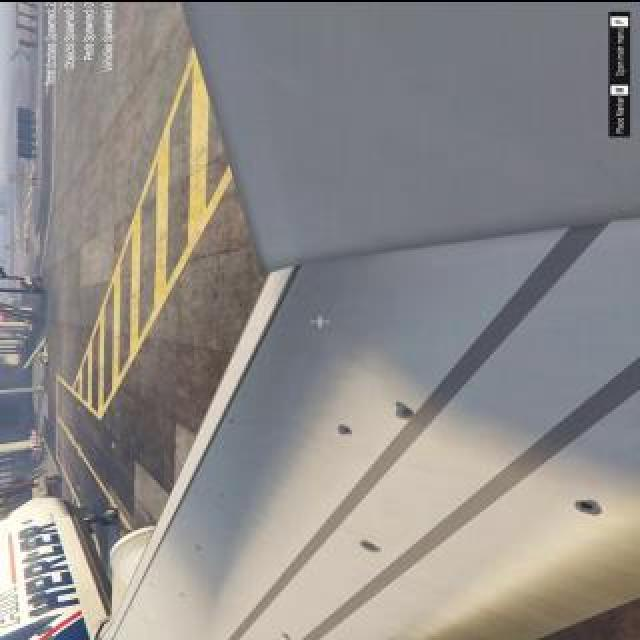crack: (572, 495, 602, 517), (359, 538, 383, 552), (396, 403, 416, 419), (337, 422, 353, 434), (280, 629, 296, 639), (216, 489, 228, 499), (226, 416, 238, 424)
